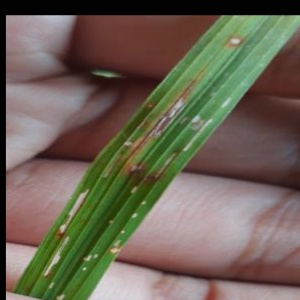Brown_Spot: (141, 67, 206, 137), (151, 136, 192, 185), (220, 29, 256, 53)
